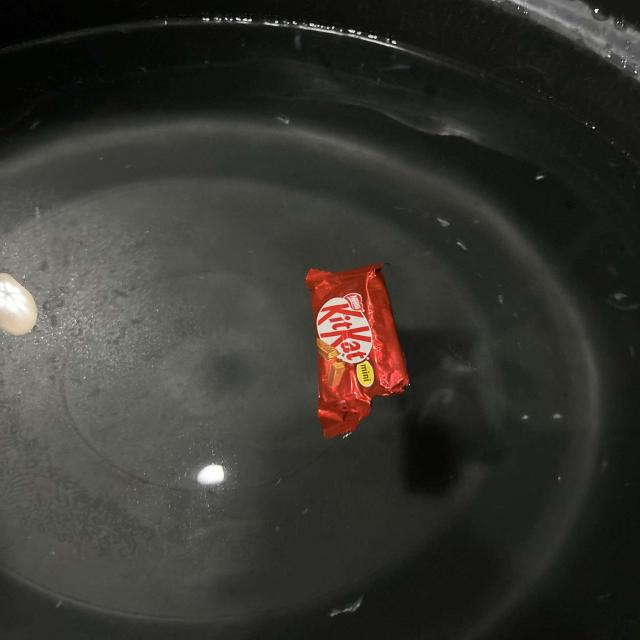Plastic Wrapper: (305, 264, 409, 438)
